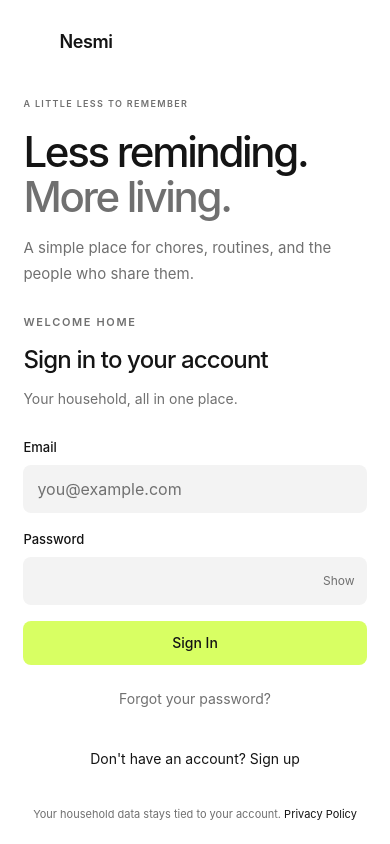
Test case: AUTH-01 presentation regression › uses the primary action in Send Reset Link mode
Click the button "Forgot your password?". click: (195, 699)
box: [119,677,271,721]
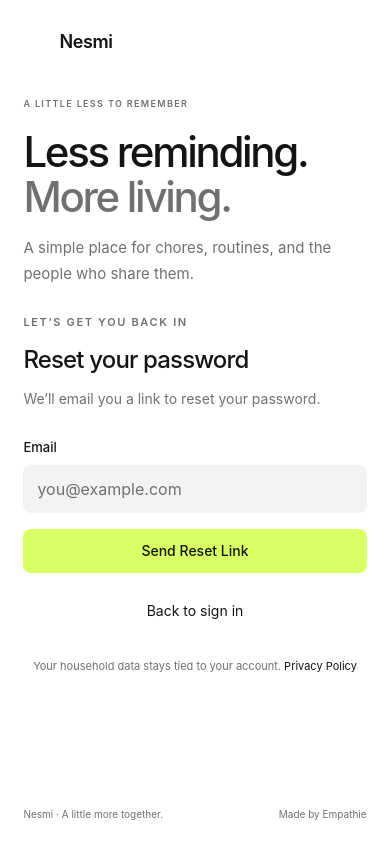
Check: the element named "Send Reset Link" is shown
